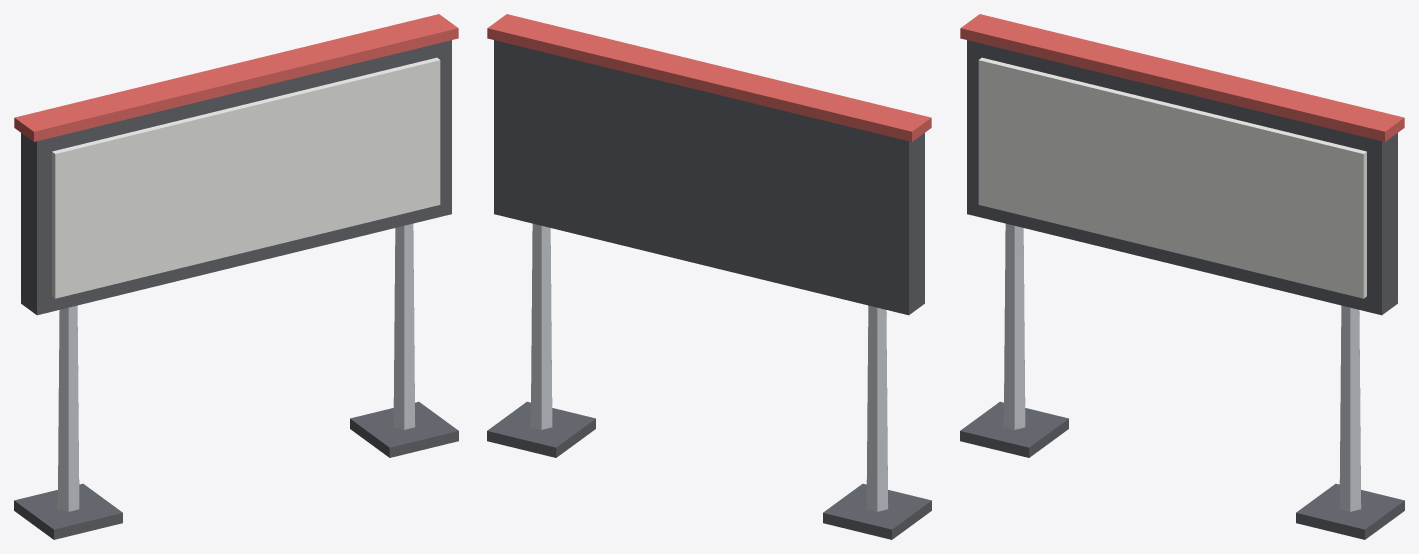
File: velodrome-and-track-cycling-scoreboard-frame-437f6c55__38000.glb
3 renders of one model, left to right at view 1: azimuth 30°, elevation 25°; view 2: azimuth 150°, elevation 25°; view 3: azimuth 330°, elevation 25°, orthographic.
Parts seen in each view (by area): view 1: scoreboard-frame-chalk, scoreboard-frame-charcoal, scoreboard-frame-red, scoreboard-frame-steel; view 2: scoreboard-frame-charcoal, scoreboard-frame-red, scoreboard-frame-steel; view 3: scoreboard-frame-chalk, scoreboard-frame-charcoal, scoreboard-frame-red, scoreboard-frame-steel.
Part boxes in pixels (<box>): scoreboard-frame-chalk: <box>52,57,440,298</box>; scoreboard-frame-charcoal: <box>14,40,458,539</box>; scoreboard-frame-red: <box>14,14,458,141</box>; scoreboard-frame-steel: <box>57,223,415,511</box>; scoreboard-frame-charcoal: <box>487,40,931,539</box>; scoreboard-frame-red: <box>487,14,931,141</box>; scoreboard-frame-steel: <box>530,223,888,511</box>; scoreboard-frame-chalk: <box>978,57,1366,298</box>; scoreboard-frame-charcoal: <box>960,40,1404,539</box>; scoreboard-frame-red: <box>960,14,1404,141</box>; scoreboard-frame-steel: <box>1003,223,1361,511</box>.
Bounding box in the file's own units: 4.3 × 3.9 × 0.6999.
